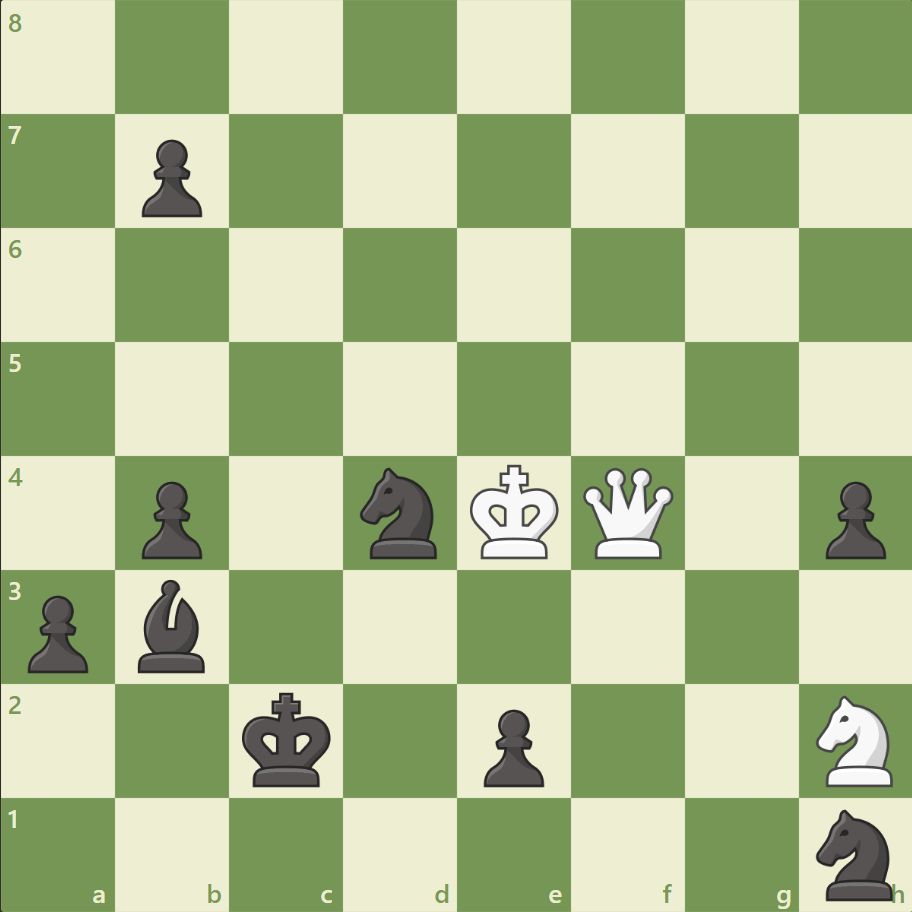K: (465, 458, 565, 566)
N: (806, 688, 903, 791)
Q: (578, 463, 677, 562)
b: (131, 574, 215, 676)
k: (238, 685, 338, 793)
n: (351, 461, 449, 564), (806, 802, 903, 904)
p: (133, 132, 208, 223), (133, 473, 208, 564), (20, 586, 95, 677), (474, 700, 549, 791), (815, 473, 889, 564)
